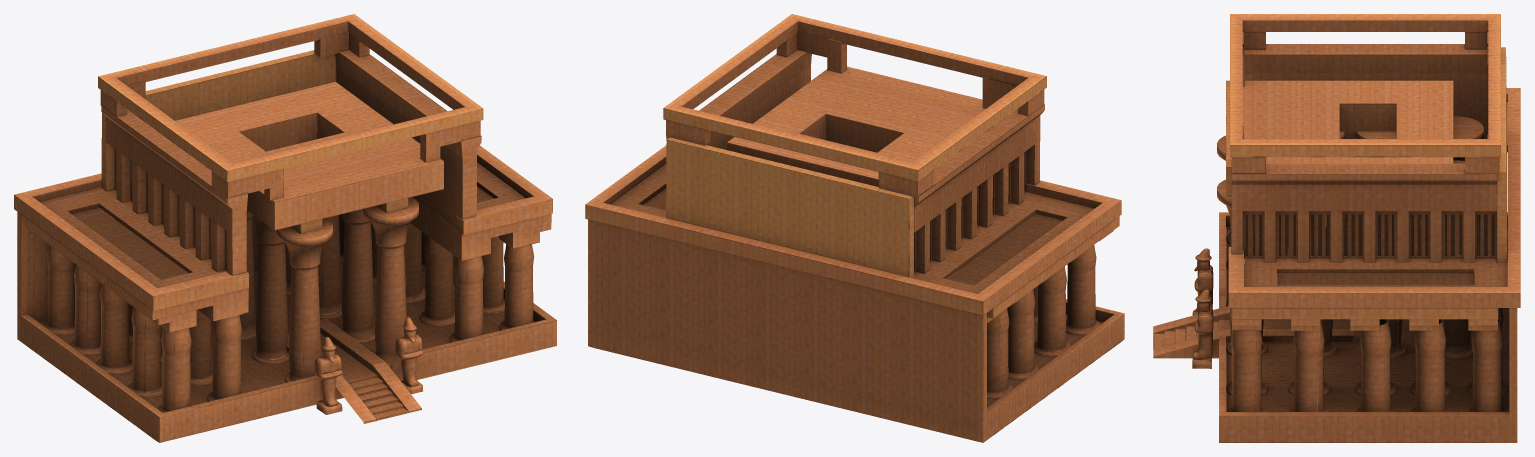
File: Old Structures1.fbx
3 renders of one model, left to right at view 1: azimuth 30°, elevation 25°; view 2: azimuth 150°, elevation 25°; view 3: azimuth 270°, elevation 25°, orthographic. The views are drawn at different scales.
Visible parts, largest first — view 1: Cube_egypt_temple_2_0.005, Cube_egypt_temple_2_0.037, Cube_egypt_temple_2_0.031, Cube_egypt_temple_2_0.034, Cube_egypt_temple_2_0.033, Cube_egypt_temple_2_0.038, Cube_egypt_temple_2_0.032, Cube_egypt_temple_2_0.009, Cube_egypt_temple_2_0.004, Cube_egypt_temple_2_0.010, Cube_egypt_temple_2_0.006, Cube_egypt_temple_2_0.030 (+25 smaller); view 2: Cube_egypt_temple_2_0.005, Cube_egypt_temple_2_0.031, Cube_egypt_temple_2_0.038, Cube_egypt_temple_2_0.037, Cube_egypt_temple_2_0.034, Cube_egypt_temple_2_0.033, Cube_egypt_temple_2_0.032, Cube_egypt_temple_2_0.003, Cube_egypt_temple_2_0.024, Cube_egypt_temple_2_0.020, Cube_egypt_temple_2_0.028, Cube_egypt_temple_2_0.053 (+4 smaller); view 3: Cube_egypt_temple_2_0.032, Cube_egypt_temple_2_0.005, Cube_egypt_temple_2_0.031, Cube_egypt_temple_2_0.037, Cube_egypt_temple_2_0.034, Cube_egypt_temple_2_0.033, Cube_egypt_temple_2_0, Cube_egypt_temple_2_0.018, Cube_egypt_temple_2_0.026, Cube_egypt_temple_2_0.014, Cube_egypt_temple_2_0.001, Cube_egypt_temple_2_0.022 (+14 smaller).
Part boxes in pixels (x1,y1,x2,y2): Cube_egypt_temple_2_0.005: (17,212,556,442); Cube_egypt_temple_2_0.037: (175,81,443,230); Cube_egypt_temple_2_0.031: (14,145,552,310); Cube_egypt_temple_2_0.034: (98,14,483,182); Cube_egypt_temple_2_0.033: (101,105,248,275); Cube_egypt_temple_2_0.038: (101,50,336,190); Cube_egypt_temple_2_0.032: (335,50,481,222); Cube_egypt_temple_2_0.009: (277,218,332,382); Cube_egypt_temple_2_0.004: (363,197,418,366); Cube_egypt_temple_2_0.010: (252,215,289,364); Cube_egypt_temple_2_0.006: (341,209,375,343); Cube_egypt_temple_2_0.030: (25,218,248,321); Cube_egypt_temple_2_0.005: (588,219,1124,442); Cube_egypt_temple_2_0.031: (585,145,1121,315); Cube_egypt_temple_2_0.038: (666,137,913,278); Cube_egypt_temple_2_0.037: (727,66,985,186); Cube_egypt_temple_2_0.034: (663,14,1046,181); Cube_egypt_temple_2_0.033: (914,104,1044,273); Cube_egypt_temple_2_0.032: (666,49,811,149); Cube_egypt_temple_2_0.003: (1066,245,1099,335); Cube_egypt_temple_2_0.024: (1034,266,1070,356); Cube_egypt_temple_2_0.020: (1007,289,1038,379); Cube_egypt_temple_2_0.028: (987,308,1012,398); Cube_egypt_temple_2_0.053: (776,31,846,73); Cube_egypt_temple_2_0.032: (1231,163,1496,262); Cube_egypt_temple_2_0.005: (1219,212,1517,442); Cube_egypt_temple_2_0.031: (1228,88,1520,307); Cube_egypt_temple_2_0.037: (1226,80,1453,196); Cube_egypt_temple_2_0.034: (1230,14,1500,157); Cube_egypt_temple_2_0.033: (1242,44,1488,138); Cube_egypt_temple_2_0: (1231,308,1498,319); Cube_egypt_temple_2_0.018: (1356,319,1395,411); Cube_egypt_temple_2_0.026: (1411,319,1450,411); Cube_egypt_temple_2_0.014: (1468,319,1507,411); Cube_egypt_temple_2_0.001: (1227,330,1266,411); Cube_egypt_temple_2_0.022: (1289,321,1328,411).
Size of the model in its own units: 90089 by 54005 by 68310.
Materials: 1 (1 with a texture image).
